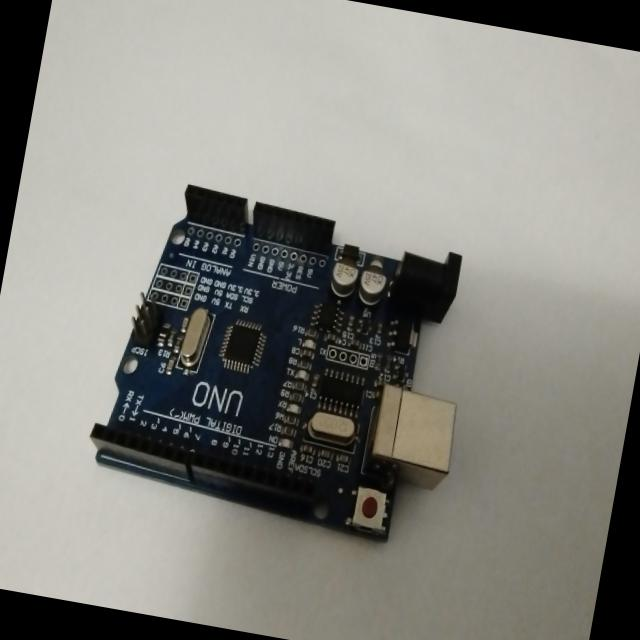arduino: (83, 163, 494, 567)
